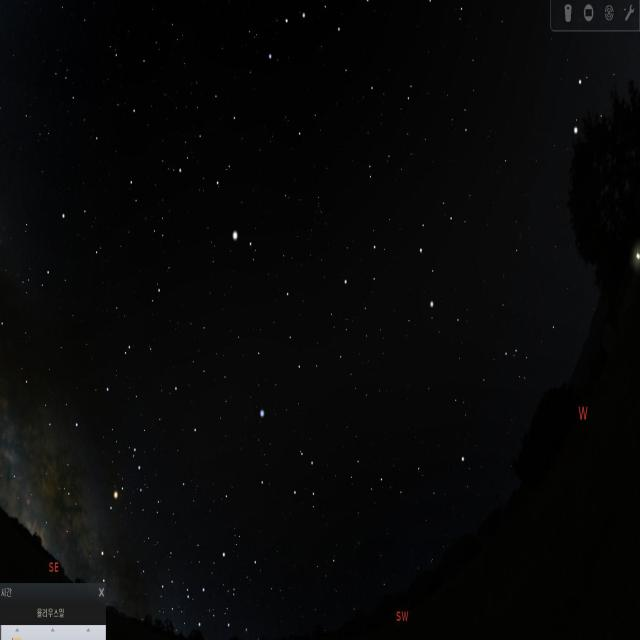bootes: (190, 90, 254, 256)
leo: (327, 185, 465, 346)
scorpius: (85, 434, 154, 570)
